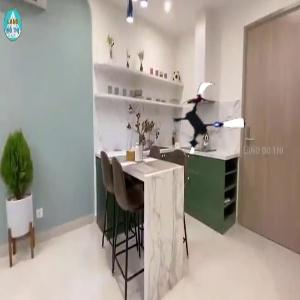drone: (169, 81, 249, 161)
